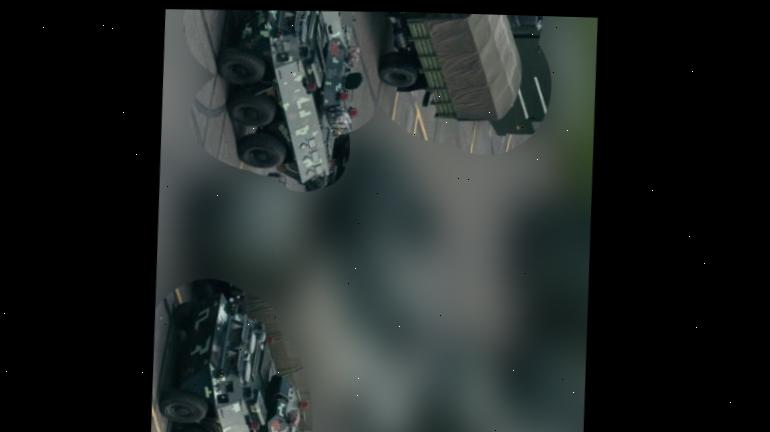armored_car: (206, 6, 374, 195), (154, 275, 319, 432)
truck: (351, 11, 548, 129)
